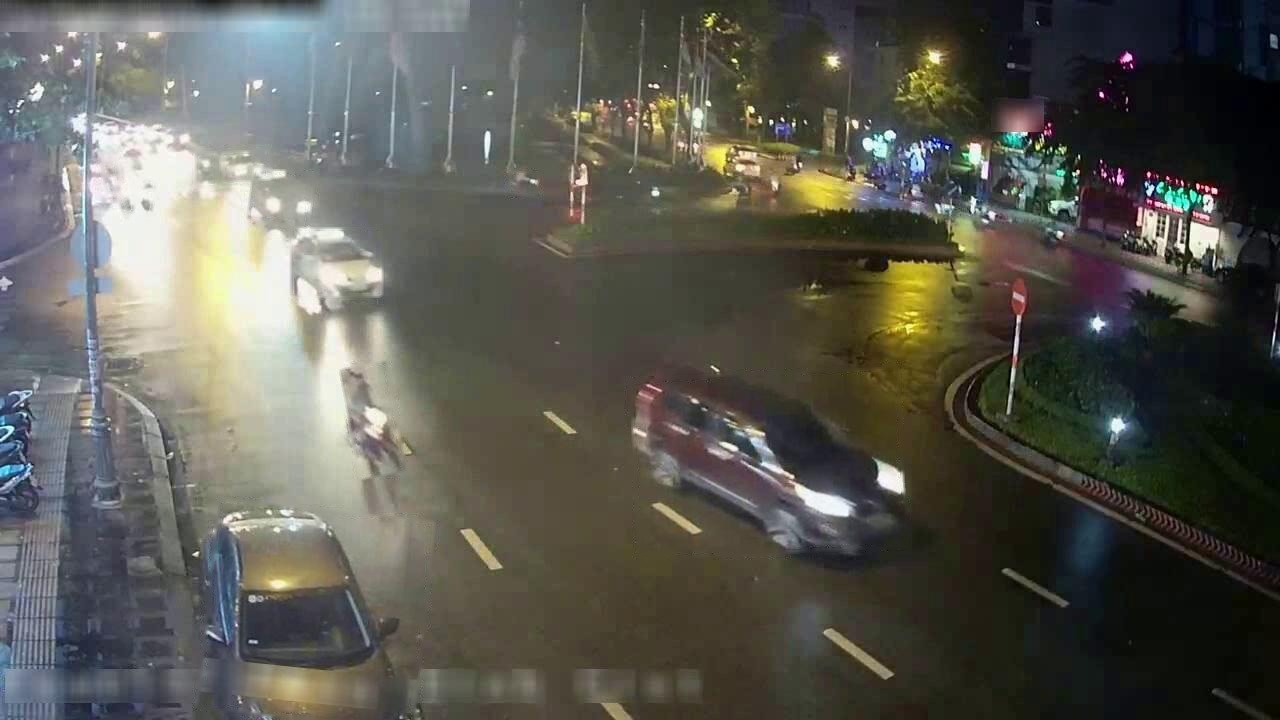Car: (631, 366, 904, 557), (201, 508, 407, 719), (290, 227, 383, 312), (248, 168, 313, 233), (220, 151, 262, 180), (1047, 198, 1077, 221)
Motorcycle: (0, 463, 39, 513), (0, 426, 28, 464)
Motorcyclist: (341, 367, 402, 472), (508, 170, 539, 197), (134, 181, 156, 212), (103, 162, 120, 199), (116, 186, 133, 216), (196, 152, 213, 181)
Pedestrian: (340, 368, 373, 429), (1201, 247, 1215, 276)
Sign: (1010, 277, 1027, 316)
